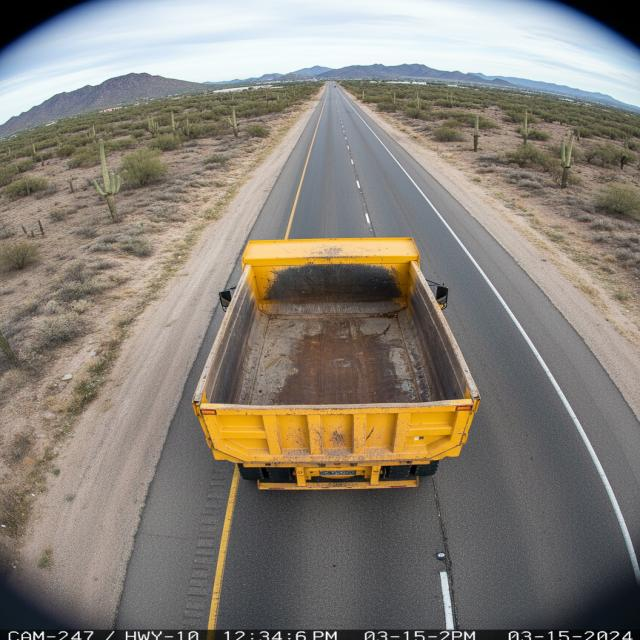trailer: (183, 249, 485, 427)
truck: (110, 207, 522, 514)
